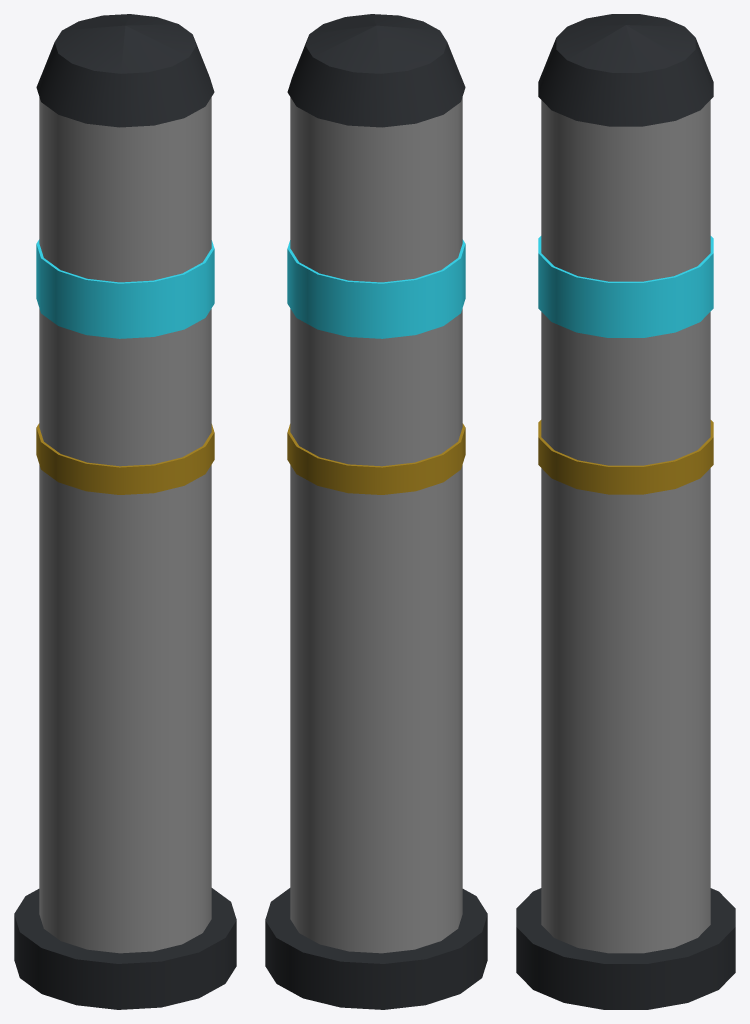
File: St_Bollard_LED.fbx
3 views of the same model, side by side, from view 1: azimuth 30°, elevation 25°; view 2: azimuth 150°, elevation 25°; view 3: azimuth 270°, elevation 25° (orthographic).
Parts seen in each view (by area): view 1: St_Bollard_LED_LOD0; view 2: St_Bollard_LED_LOD0; view 3: St_Bollard_LED_LOD0.
Part boxes in pixels (<box>): St_Bollard_LED_LOD0: <box>14,14,236,1009</box>; St_Bollard_LED_LOD0: <box>265,14,487,1009</box>; St_Bollard_LED_LOD0: <box>516,14,735,1009</box>.
Size of what is drawn, in the model's own units: 0.2158 by 1.02 by 0.2158.
